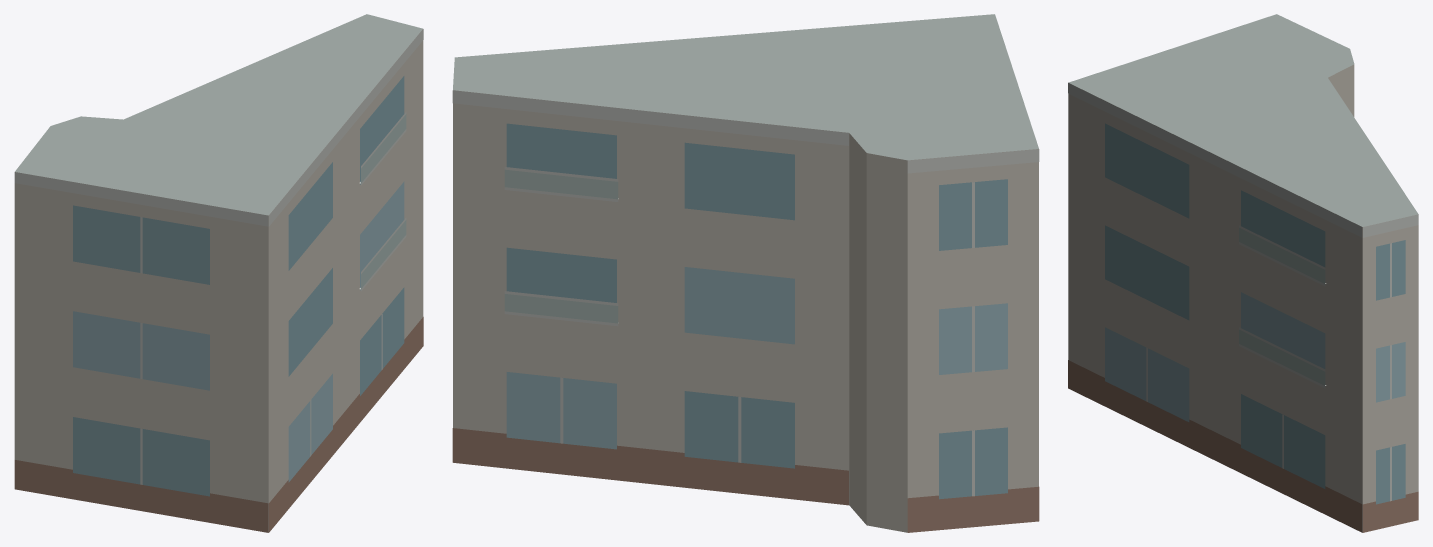
File: survey-upis-32882813.glb
3 renders of one model, left to right at view 1: azimuth 30°, elevation 25°; view 2: azimuth 150°, elevation 25°; view 3: azimuth 270°, elevation 25°, orthographic. The views are drawn at different scales.
Parts seen in each view (by area): view 1: survey-upis-32882813.tmp; view 2: survey-upis-32882813.tmp; view 3: survey-upis-32882813.tmp.
Boxes of the visible parts, x1,y1,x2,y2 form: survey-upis-32882813.tmp: (14, 14, 423, 532); survey-upis-32882813.tmp: (452, 14, 1039, 532); survey-upis-32882813.tmp: (1068, 14, 1418, 532).
Bounding box in the file's own units: 10.33 × 6.9 × 7.18.
